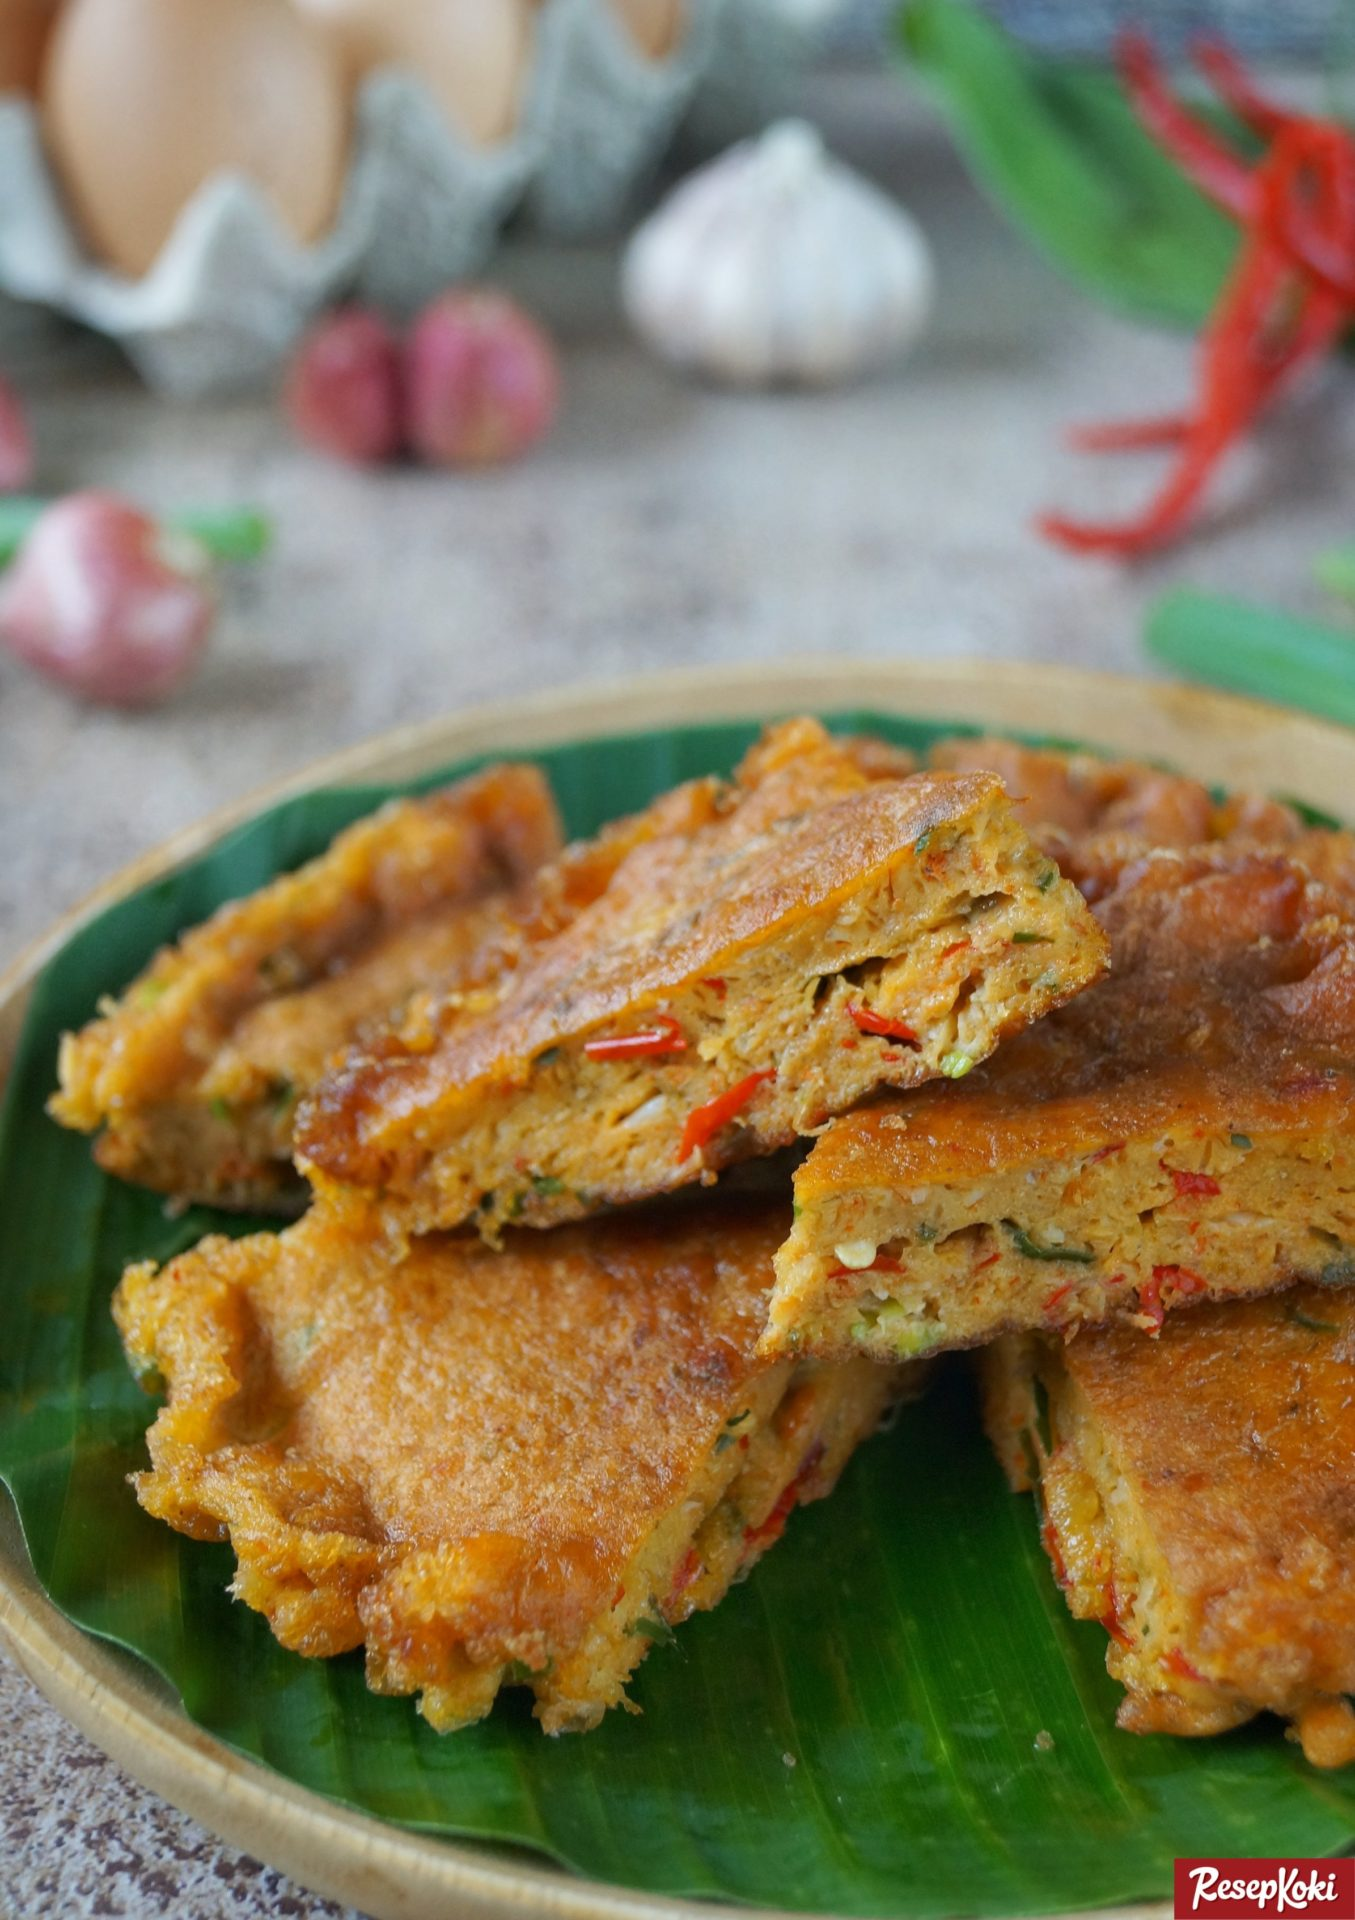Telur: (114, 1236, 934, 1684), (349, 725, 1085, 1217), (1056, 1302, 1355, 1728), (735, 1118, 1355, 1314)
